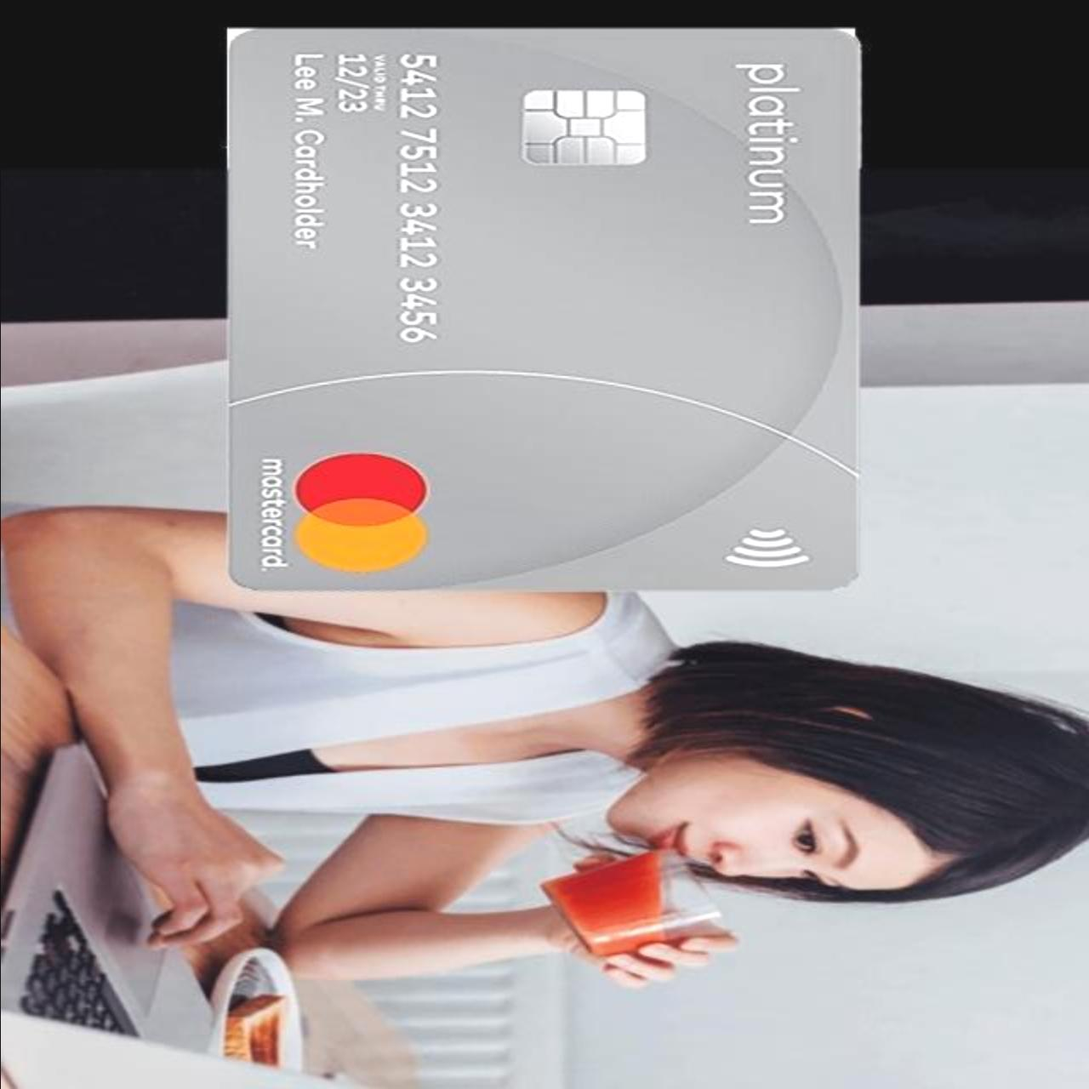credit_card: (225, 10, 858, 609)
